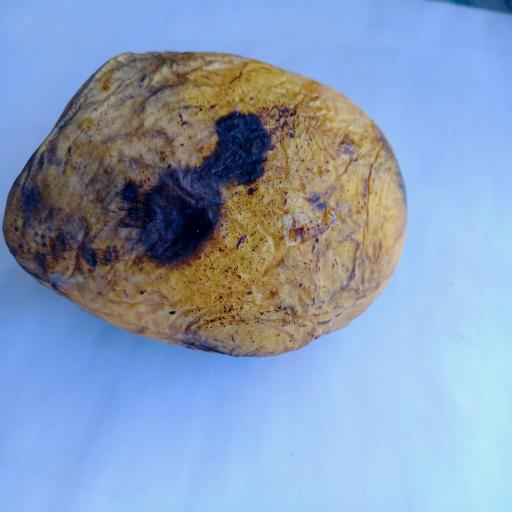mango-overripe: (0, 34, 423, 366)
